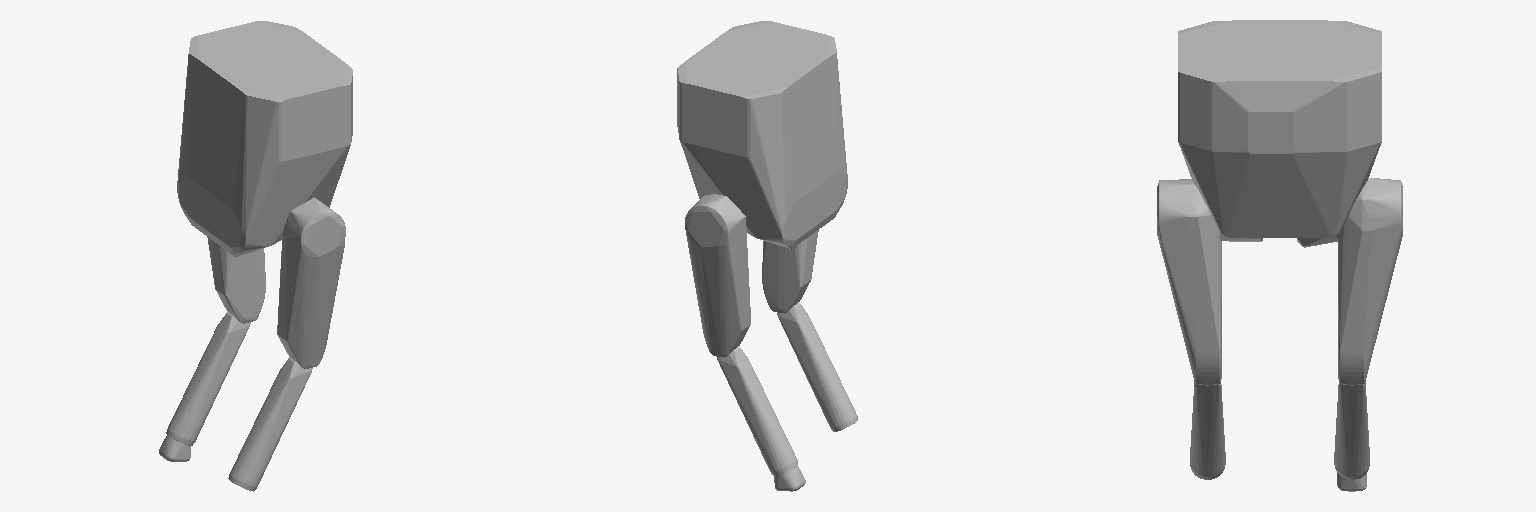
The robot description file, URDF, robot "pf2":
<?xml version="1.0" encoding="utf-8"?>
<!-- This URDF was automatically created by SolidWorks to URDF Exporter! Originally created by [author] ([email redacted]) 
     Commit Version: 1.6.0-1-g15f4949  Build Version: 1.6.7594.29634
     For more information, please see http://wiki.ros.org/sw_urdf_exporter -->
<robot
  name="pf2">
  <link
    name="torso">
    <inertial>
      <origin
        xyz="0.01278331 -0.00050323 0.04958380"
        rpy="0 0 0" />
      <mass
        value="13.01467475" />
      <inertia
        ixx="0.15756795"
        ixy="-0.00024240"
        ixz="0.03700832"
        iyy="0.14639276"
        iyz="-0.00078108"
        izz="0.10664206" />
    </inertial>
    <visual>
      <origin
        xyz="0 0 0"
        rpy="0 0 0" />
      <geometry>
        <mesh
          filename="../meshes/torso.STL" />
      </geometry>
      <material
        name="">
        <color
          rgba="0.75294 0.75294 0.75294 1" />
      </material>
    </visual>
    <collision>
      <origin
        xyz="0 0 0"
        rpy="0 0 0" />
      <geometry>
        <mesh
          filename="../meshes/torso.STL" />
      </geometry>
    </collision>
  </link>
  <link
    name="rhip">
    <inertial>
      <origin
        xyz="0.00083719 0.01343983 0.00047521"
        rpy="0 0 0" />
      <mass
        value="1.4024871" />
      <inertia
        ixx="0.00052950"
        ixy="-0.00001614"
        ixz="0.00000106"
        iyy="0.00086862"
        iyz="0.00000249"
        izz="0.00077246" />
    </inertial>
    <visual>
      <origin
        xyz="0 0 0"
        rpy="0 0 0" />
      <geometry>
        <mesh
          filename="../meshes/rhip.STL" />
      </geometry>
      <material
        name="">
        <color
          rgba="0.75294 0.75294 0.75294 1" />
      </material>
    </visual>
    <collision>
      <origin
        xyz="0 0 0"
        rpy="0 0 0" />
      <geometry>
        <mesh
          filename="../meshes/rhip.STL" />
      </geometry>
    </collision>
  </link>
  <joint
    name="rhiproll"
    type="revolute">
    <origin
      xyz="0.027 -0.085 -0.0865"
      rpy="0 0 0" />
    <parent
      link="torso" />
    <child
      link="rhip" />
    <axis
      xyz="1 0 0" />
    <limit effort="195" lower="-0.5" upper="0.5" velocity="100"/>
  </joint>
  <link
    name="rfem">
    <inertial>
      <origin
        xyz="0.00078675 -0.06302990 -0.06912584"
        rpy="0 0 0" />
      <mass
        value="2.51808857" />
      <inertia
        ixx="0.02894706"
        ixy="0.00002237"
        ixz="-0.00030675"
        iyy="0.02841140"
        iyz="-0.00406341"
        izz="0.00269718" />
    </inertial>
    <visual>
      <origin
        xyz="0 0 0"
        rpy="0 0 0" />
      <geometry>
        <mesh
          filename="../meshes/rfem.STL" />
      </geometry>
      <material
        name="">
        <color
          rgba="0.75294 0.75294 0.75294 1" />
      </material>
    </visual>
    <collision>
      <origin
        xyz="0 0 0"
        rpy="0 0 0" />
      <geometry>
        <mesh
          filename="../meshes/rfem.STL" />
      </geometry>
    </collision>
  </link>
  <joint
    name="rfempitch"
    type="revolute">
    <origin
      xyz="0 0 0"
      rpy="0 0 0" />
    <parent
      link="rhip" />
    <child
      link="rfem" />
    <axis
      xyz="0 -1 0" />
    <limit effort="195" lower="-1.0" upper="1.0" velocity="100"/>
  </joint>
  <link
    name="rtib">
    <inertial>
      <origin
        xyz="0.00136640 0.00004521 -0.11556943"
        rpy="0 0 0" />
      <mass
        value="0.40418829" />
      <inertia
        ixx="0.00374121"
        ixy="-0.00000003"
        ixz="0.00005805"
        iyy="0.00374783"
        iyz="0.00000211"
        izz="0.00013391" />
    </inertial>
    <visual>
      <origin
        xyz="0 0 0"
        rpy="0 0 0" />
      <geometry>
        <mesh
          filename="../meshes/rtib.STL" />
      </geometry>
      <material
        name="">
        <color
          rgba="0.75294 0.75294 0.75294 1" />
      </material>
    </visual>
    <collision>
      <origin
        xyz="0 0 0"
        rpy="0 0 0" />
      <geometry>
        <mesh
          filename="../meshes/rtib.STL" />
      </geometry>
    </collision>
  </link>
  <joint
    name="rtibpitch"
    type="revolute">
    <origin
      xyz="0 -0.0385 -0.3"
      rpy="0 0 0" />
    <parent
      link="rfem" />
    <child
      link="rtib" />
    <axis
      xyz="0 -1 0" />
    <limit effort="195" lower="-1.0" upper="-0.03" velocity="100"/>
  </joint>
  <link
    name="rfoot">
    <inertial>
      <origin
        xyz="0.00000000 0.00000000 -0.02242056"
        rpy="0 0 0" />
      <mass
        value="0.20000000" />
      <inertia
        ixx="0.00005883"
        ixy="0.00000000"
        ixz="0.00000000"
        iyy="0.00005883"
        iyz="0.00000000"
        izz="0.00006037" />
    </inertial>
    <visual>
      <origin
        xyz="0 0 0"
        rpy="0 0 0" />
      <geometry>
        <mesh
          filename="../meshes/rfoot.STL" />
      </geometry>
      <material
        name="">
        <color
          rgba="0.75294 0.75294 0.75294 1" />
      </material>
    </visual>
    <collision>
      <origin
        xyz="0 0 0"
        rpy="0 0 0" />
      <geometry>
        <mesh
          filename="../meshes/rfoot.STL" />
      </geometry>
    </collision>
  </link>
  <joint
    name="rfootfixed"
    type="fixed">
    <origin
      xyz="0 0 -0.284"
      rpy="0 0 0" />
    <parent
      link="rtib" />
    <child
      link="rfoot" />
    <axis
      xyz="0 0 0" />
  </joint>
  <link
    name="lhip">
    <inertial>
      <origin
        xyz="0.00083719 -0.01343789 -0.00047190"
        rpy="0 0 0" />
      <mass
        value="1.40248713" />
      <inertia
        ixx="0.00052958"
        ixy="0.00001630"
        ixz="-0.00000078"
        iyy="0.00086862"
        iyz="0.00000256"
        izz="0.00077254" />
    </inertial>
    <visual>
      <origin
        xyz="0 0 0"
        rpy="0 0 0" />
      <geometry>
        <mesh
          filename="../meshes/lhip.STL" />
      </geometry>
      <material
        name="">
        <color
          rgba="0.75294 0.75294 0.75294 1" />
      </material>
    </visual>
    <collision>
      <origin
        xyz="0 0 0"
        rpy="0 0 0" />
      <geometry>
        <mesh
          filename="../meshes/lhip.STL" />
      </geometry>
    </collision>
  </link>
  <joint
    name="lhiproll"
    type="revolute">
    <origin
      xyz="0.027 0.085 -0.0865"
      rpy="0 0 0" />
    <parent
      link="torso" />
    <child
      link="lhip" />
    <axis
      xyz="1 0 0" />
    <limit effort="195" lower="-0.5" upper="0.5" velocity="100"/>
  </joint>
  <link
    name="lfem">
    <inertial>
      <origin
        xyz="0.00066944 0.06295031 -0.06959369"
        rpy="0 0 0" />
      <mass
        value="2.51800000" />
      <inertia
        ixx="0.02897947"
        ixy="-0.00002869"
        ixz="-0.00032347"
        iyy="0.02848041"
        iyz="0.00408938"
        izz="0.00265993" />
    </inertial>
    <visual>
      <origin
        xyz="0 0 0"
        rpy="0 0 0" />
      <geometry>
        <mesh
          filename="../meshes/lfem.STL" />
      </geometry>
      <material
        name="">
        <color
          rgba="0.75294 0.75294 0.75294 1" />
      </material>
    </visual>
    <collision>
      <origin
        xyz="0 0 0"
        rpy="0 0 0" />
      <geometry>
        <mesh
          filename="../meshes/lfem.STL" />
      </geometry>
    </collision>
  </link>
  <joint
    name="lfempitch"
    type="revolute">
    <origin
      xyz="0 0 0"
      rpy="0 0 0" />
    <parent
      link="lhip" />
    <child
      link="lfem" />
    <axis
      xyz="0 -1 0" />
    <limit effort="195" lower="-1.0" upper="1.0" velocity="100"/>
  </joint>
  <link
    name="ltib">
    <inertial>
      <origin
        xyz="0.00136640 0.00004521 -0.11556943"
        rpy="0 0 0" />
      <mass
        value="0.40418829" />
      <inertia
        ixx="0.00374121"
        ixy="-0.00000003"
        ixz="0.00005805"
        iyy="0.00374783"
        iyz="0.00000211"
        izz="0.00013391" />
    </inertial>
    <visual>
      <origin
        xyz="0 0 0"
        rpy="0 0 0" />
      <geometry>
        <mesh
          filename="../meshes/ltib.STL" />
      </geometry>
      <material
        name="">
        <color
          rgba="0.75294 0.75294 0.75294 1" />
      </material>
    </visual>
    <collision>
      <origin
        xyz="0 0 0"
        rpy="0 0 0" />
      <geometry>
        <mesh
          filename="../meshes/ltib.STL" />
      </geometry>
    </collision>
  </link>
  <joint
    name="ltibpitch"
    type="revolute">
    <origin
      xyz="0 0.0385 -0.3"
      rpy="0 0 0" />
    <parent
      link="lfem" />
    <child
      link="ltib" />
    <axis
      xyz="0 -1 0" />
    <limit effort="195" lower="-1.0" upper="-0.03" velocity="100"/>
  </joint>
  <link
    name="lfoot">
    <inertial>
      <origin
        xyz="0.00000000 0.00000000 -0.02242056"
        rpy="0 0 0" />
      <mass
        value="0.20000000" />
      <inertia
        ixx="0.00005883"
        ixy="0.00000000"
        ixz="0.00000000"
        iyy="0.00005883"
        iyz="0.00000000"
        izz="0.00006037" />
    </inertial>
    <visual>
      <origin
        xyz="0 0 0"
        rpy="0 0 0" />
      <geometry>
        <mesh
          filename="../meshes/lfoot.STL" />
      </geometry>
      <material
        name="">
        <color
          rgba="0.75294 0.75294 0.75294 1" />
      </material>
    </visual>
    <collision>
      <origin
        xyz="0 0 0"
        rpy="0 0 0" />
      <geometry>
        <mesh
          filename="../meshes/lfoot.STL" />
      </geometry>
    </collision>
  </link>
  <joint
    name="lfootfixed"
    type="fixed">
    <origin
      xyz="0 0 -0.284"
      rpy="0 0 0" />
    <parent
      link="ltib" />
    <child
      link="lfoot" />
    <axis
      xyz="0 0 0" />
  </joint>
</robot>

--- Facts derived from the render (not from the file) ---
3 views of the same robot in one strip: view 1: azimuth 30°, elevation 25°; view 2: azimuth 150°, elevation 25°; view 3: azimuth 270°, elevation 25° (orthographic).
Model pf2 with 9 links and 8 joints (6 revolute, 2 fixed), rooted at torso, posed all joints at 0 but 2 set to mid-range because 0 is outside their limits (rtibpitch = -0.515, ltibpitch = -0.515).
Visible links, largest first — view 1: torso, rfem, ltib, rtib, lfem, lfoot; view 2: torso, lfem, ltib, rtib, rfem, lfoot; view 3: torso, lfem, rfem, rtib, ltib.
Link boxes in pixels (bbox=[...]): torso: bbox=[177, 21, 352, 256]; rfem: bbox=[277, 197, 345, 368]; ltib: bbox=[166, 312, 250, 445]; rtib: bbox=[228, 357, 312, 491]; lfem: bbox=[207, 237, 265, 323]; lfoot: bbox=[159, 435, 190, 461]; torso: bbox=[677, 21, 847, 248]; lfem: bbox=[685, 194, 750, 357]; ltib: bbox=[716, 346, 797, 475]; rtib: bbox=[777, 302, 857, 431]; rfem: bbox=[762, 230, 818, 313]; lfoot: bbox=[774, 465, 805, 491]; torso: bbox=[1178, 20, 1381, 237]; lfem: bbox=[1338, 178, 1402, 385]; rfem: bbox=[1157, 179, 1221, 385]; rtib: bbox=[1190, 382, 1225, 479]; ltib: bbox=[1334, 382, 1369, 479].
Size in the robot's own frame: 0.3164 by 0.4202 by 0.8924 metres.
8 mesh visuals loaded from 9 distinct referenced files (8 binary STL); not drawn: 1 (reference not matched to a file when rendering).